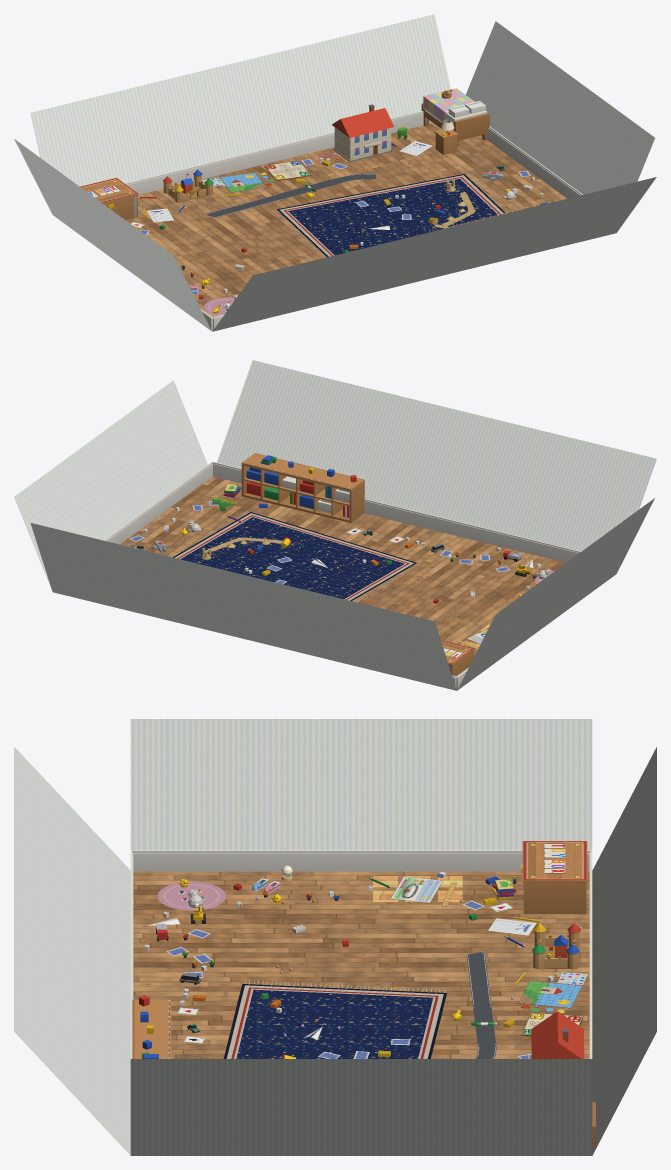
Rendered from kids.glb.
The picture shows the model from 3 angles, top to bottom: view 1: azimuth 30°, elevation 25°; view 2: azimuth 150°, elevation 25°; view 3: azimuth 270°, elevation 25°; orthographic projection. The views are drawn at different scales.
Visible parts, largest first — view 1: Zimmer_k_tapete, Boden_parkett, Zimmer_k_farbe, Boden_teppich, Zimmer_k_truhe, Zimmer_k_spiel; view 2: Zimmer_k_tapete, Boden_parkett, Zimmer_k_farbe, Boden_teppich; view 3: Zimmer_k_tapete, Boden_parkett, Zimmer_k_farbe, Boden_teppich, Zimmer_k_truhe, Boden_licht.
Boxes of the visible parts, box(x1,y1,x2,y2) form: Zimmer_k_tapete: box(14, 14, 656, 331); Boden_parkett: box(126, 121, 566, 331); Zimmer_k_farbe: box(102, 88, 582, 330); Boden_teppich: box(131, 141, 530, 315); Zimmer_k_truhe: box(80, 177, 138, 202); Zimmer_k_spiel: box(264, 160, 310, 180); Zimmer_k_tapete: box(14, 360, 656, 690); Boden_parkett: box(120, 476, 565, 690); Zimmer_k_farbe: box(104, 453, 581, 689); Boden_teppich: box(129, 501, 554, 648); Zimmer_k_tapete: box(14, 719, 656, 1155); Boden_parkett: box(133, 871, 589, 1058); Zimmer_k_farbe: box(130, 850, 595, 1145); Boden_teppich: box(157, 876, 587, 1058); Zimmer_k_truhe: box(522, 841, 587, 880); Boden_licht: box(373, 876, 462, 901).
Size of the model in its own units: 211 by 35.97 by 169.
Materials: 16 (10 with a texture image).
